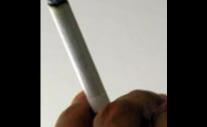Cigarette: (41, 0, 107, 115)
